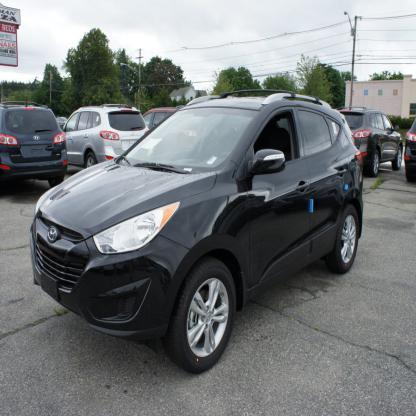Vehicle: (28, 89, 367, 378)
